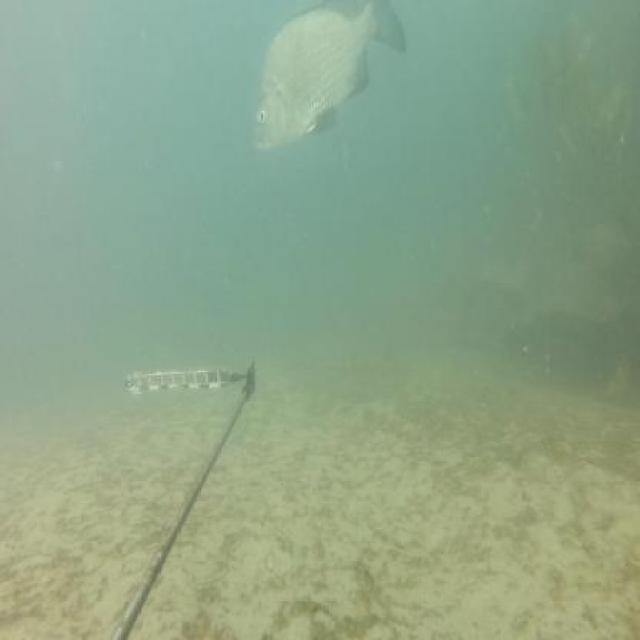acanthopagrus_palmaris: (252, 0, 412, 157)
